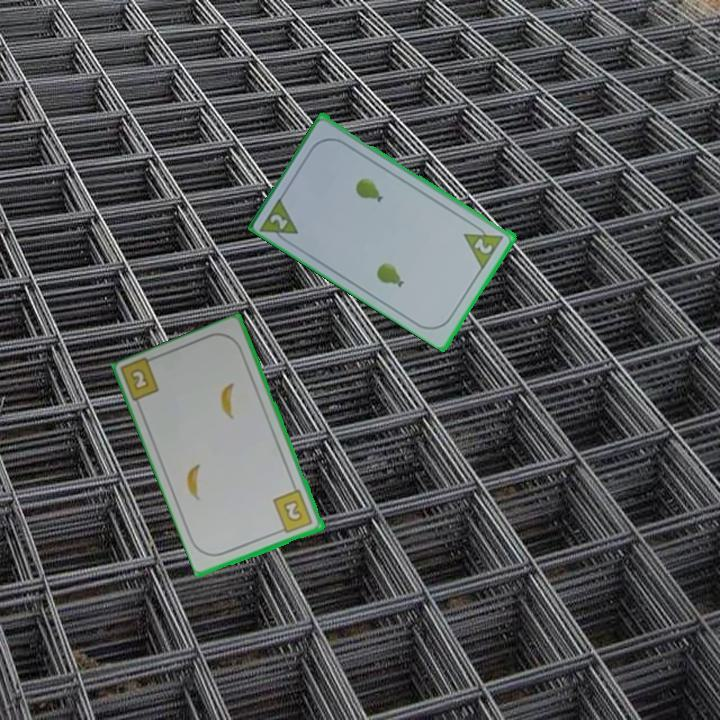2b: (270, 487, 316, 536), (126, 365, 152, 394)
2p: (461, 219, 507, 271), (266, 210, 291, 232)
